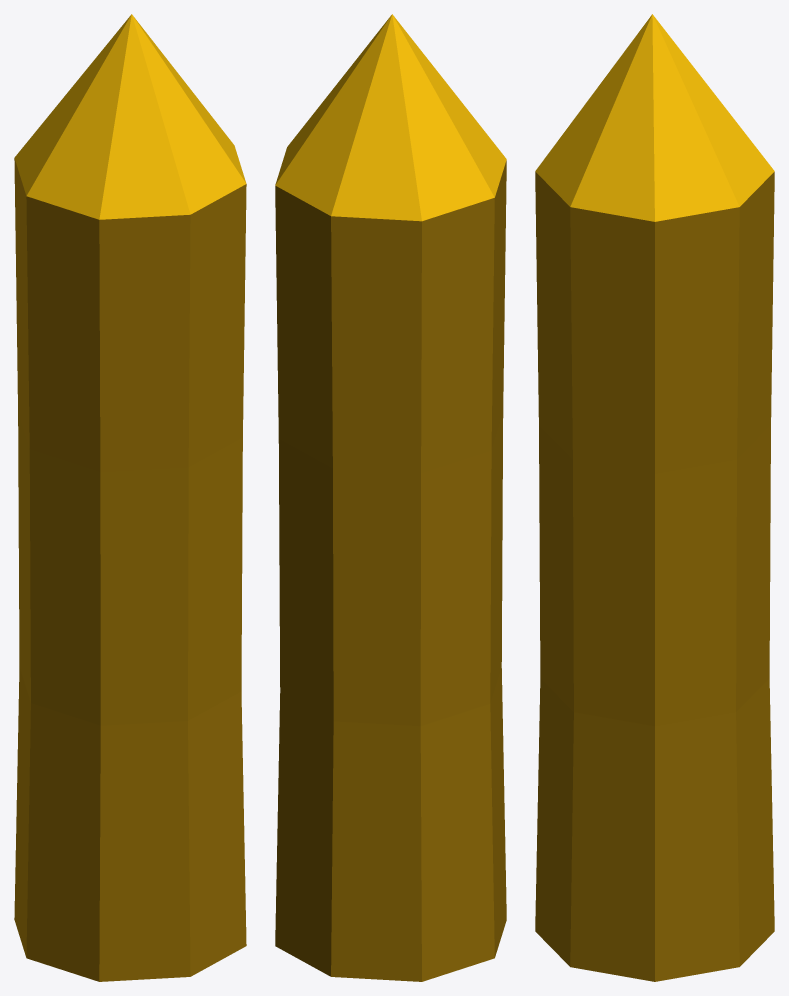
Rendered from Palisade.fbx.
3 renders of one model, left to right at view 1: azimuth 30°, elevation 25°; view 2: azimuth 150°, elevation 25°; view 3: azimuth 270°, elevation 25°, orthographic.
Parts seen in each view (by area): view 1: Cylinder; view 2: Cylinder; view 3: Cylinder.
Boxes of the visible parts, left/top/right/bottom form: Cylinder: left=14, top=14, right=246, bottom=981; Cylinder: left=275, top=14, right=506, bottom=981; Cylinder: left=535, top=14, right=774, bottom=981.
Bounding box in the file's own units: 200 × 845 × 200.
